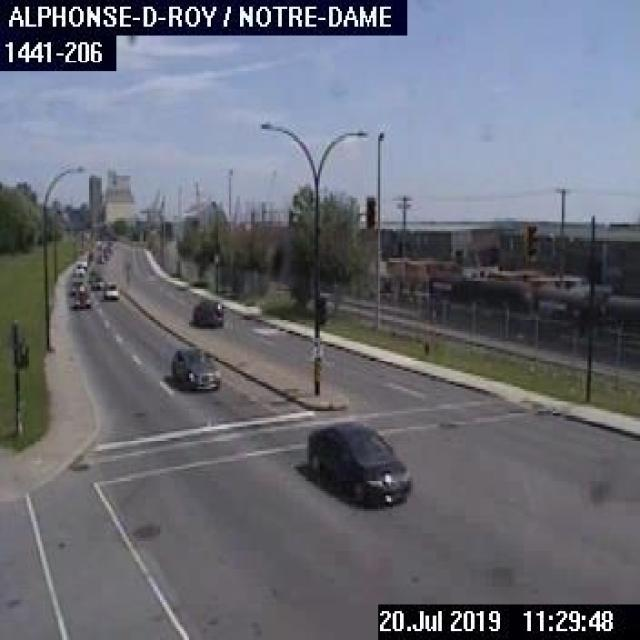vehicle: (302, 418, 411, 504), (169, 345, 220, 389), (187, 298, 224, 324), (69, 288, 90, 309), (102, 280, 119, 300), (68, 277, 85, 294), (89, 276, 102, 288), (70, 263, 82, 273)
